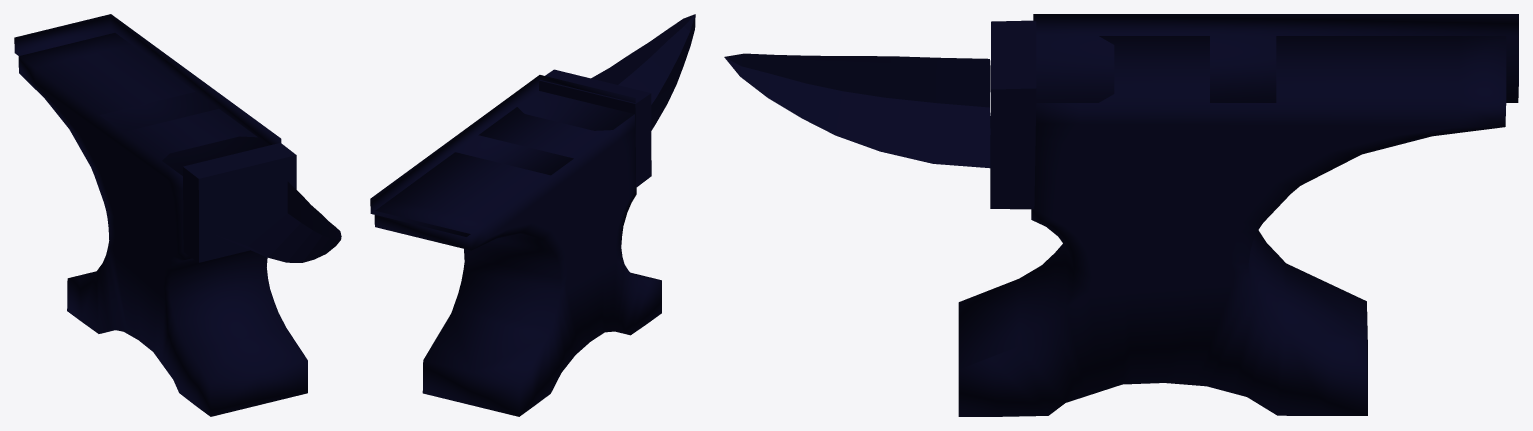
The model's file is I_Anvil.fbx.
3 views of the same model, side by side, from view 1: azimuth 30°, elevation 25°; view 2: azimuth 150°, elevation 25°; view 3: azimuth 270°, elevation 25° (orthographic). The views are drawn at different scales.
Visible parts, largest first — view 1: Cylinder; view 2: Cylinder; view 3: Cylinder.
Part boxes in pixels (left/top/right/bottom): Cylinder: left=14, top=14, right=341, bottom=416; Cylinder: left=370, top=14, right=695, bottom=416; Cylinder: left=724, top=14, right=1518, bottom=416.
Bounding box in the file's own units: 75.67 × 174 × 374.
